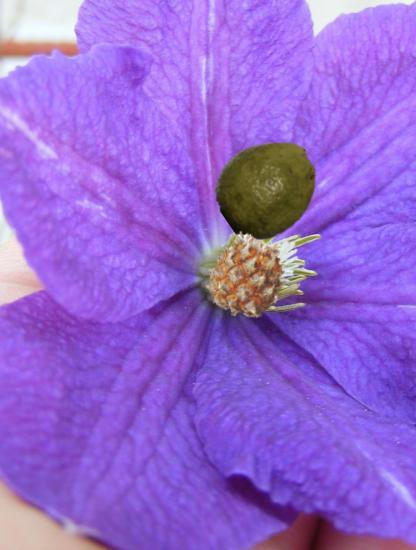Guava: (215, 135, 320, 240)
Pineapple: (205, 233, 290, 318)
